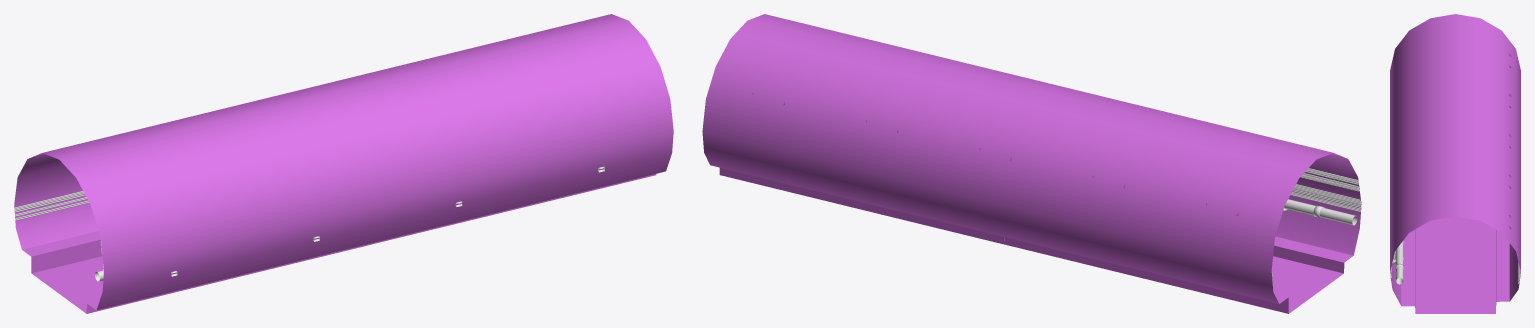
File: TunnelStraight.fbx
3 views of the same model, side by side, from view 1: azimuth 30°, elevation 25°; view 2: azimuth 150°, elevation 25°; view 3: azimuth 270°, elevation 25° (orthographic). The views are drawn at different scales.
Visible parts, largest first — view 1: TunnelStraight, Tubes & Cables; view 2: TunnelStraight, Tubes & Cables; view 3: TunnelStraight, Tubes & Cables.
Part boxes in pixels (left/top/right/bottom): TunnelStraight: left=14, top=14, right=673, bottom=313; Tubes & Cables: left=14, top=166, right=604, bottom=281; TunnelStraight: left=702, top=14, right=1361, bottom=313; Tubes & Cables: left=1271, top=168, right=1361, bottom=283; TunnelStraight: left=1390, top=14, right=1520, bottom=313; Tubes & Cables: left=1390, top=240, right=1520, bottom=284.
Size of the model in its own units: 20 by 4.5 by 5.47.
